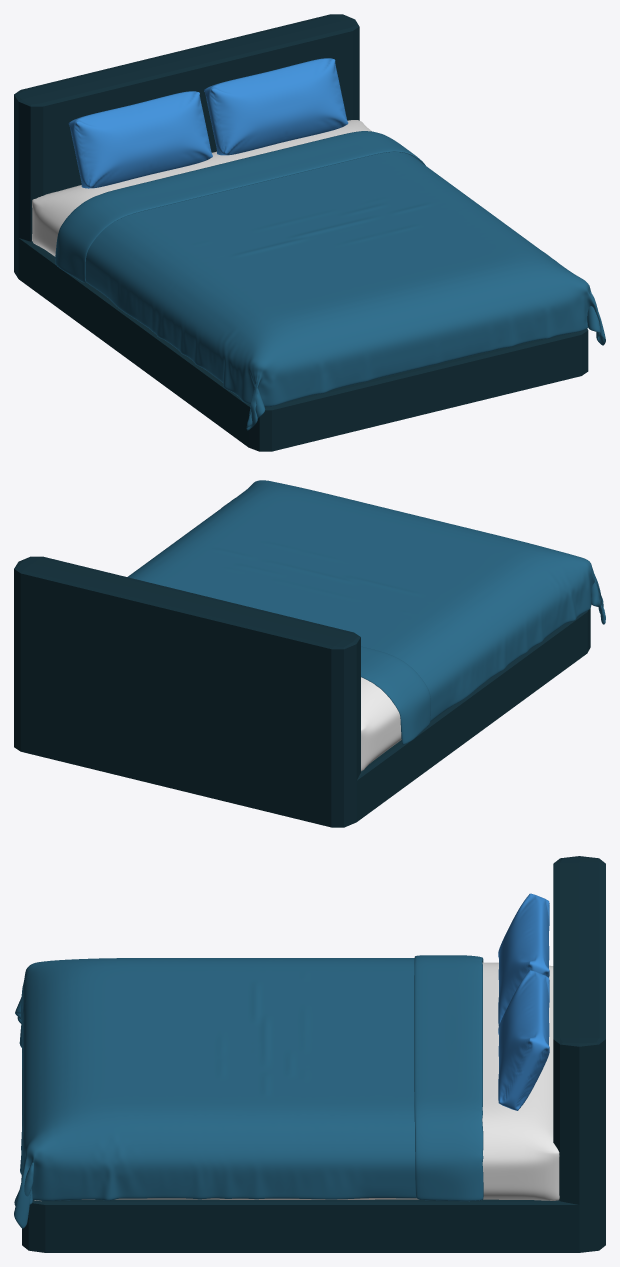
The model's file is Bed.fbx.
3 views of the same model, one above another, from view 1: azimuth 30°, elevation 25°; view 2: azimuth 150°, elevation 25°; view 3: azimuth 270°, elevation 25° (orthographic). The views are drawn at different scales.
Visible parts, largest first — view 1: Plane, Cube, Cube.002, Cube.003, Cube.001; view 2: Cube, Plane, Cube.001; view 3: Plane, Cube, Cube.001, Cube.003, Cube.002.
Boxes of the visible parts, x1,y1,x2,y2 form: Plane: (55, 131, 605, 430); Cube: (14, 14, 588, 451); Cube.002: (68, 91, 212, 188); Cube.003: (204, 58, 348, 155); Cube.001: (32, 120, 371, 256); Cube: (14, 556, 590, 827); Plane: (127, 480, 605, 744); Cube.001: (361, 677, 401, 771); Plane: (14, 955, 483, 1228); Cube: (22, 856, 605, 1252); Cube.001: (34, 962, 559, 1201); Cube.003: (498, 970, 549, 1110); Cube.002: (498, 893, 549, 1026).
Size of the model in its own units: 361 by 175 by 448.
